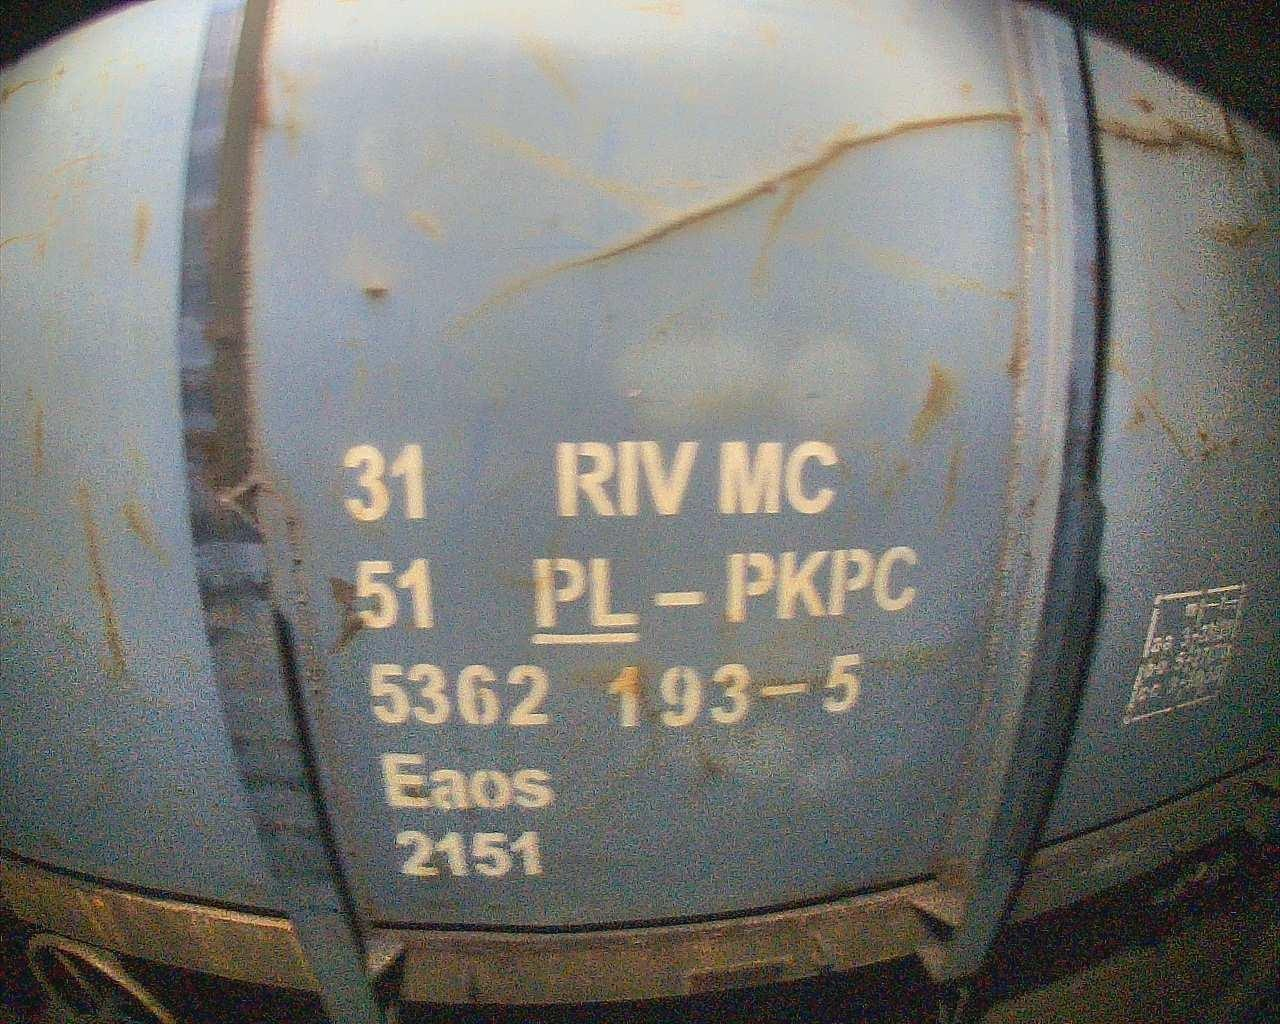UIC: (335, 435, 918, 880)
